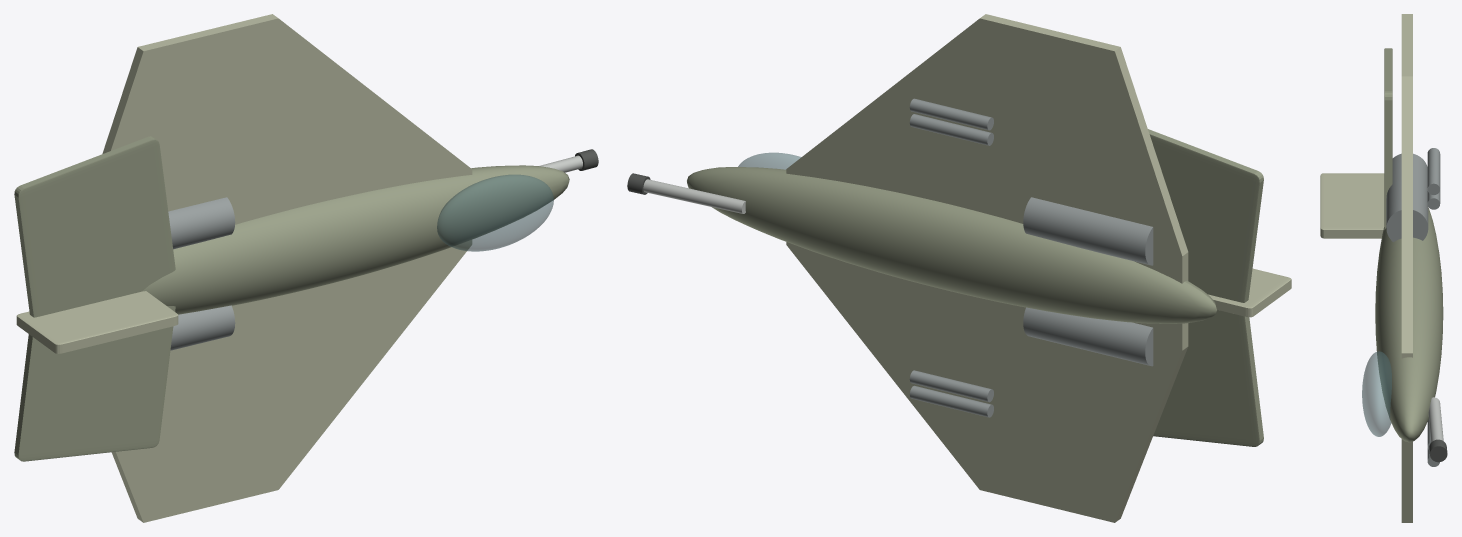
Rendered from v-u26-vanguard-bomber-lod1.glb.
The picture shows the model from 3 angles, left to right: view 1: azimuth 30°, elevation 25°; view 2: azimuth 150°, elevation 25°; view 3: azimuth 270°, elevation 25°; orthographic projection. The views are drawn at different scales.
Parts seen in each view (by area): view 1: combat_main_wing, combat_fuselage, combat_tailplane_1, combat_tailplane_-1, combat_canopy, combat_fin_0, combat_engine_1, combat_engine_0; view 2: combat_main_wing, combat_fuselage, combat_tailplane_1, combat_tailplane_-1, combat_engine_1, combat_engine_0, combat_fin_0, combat_gun_barrel_0, combat_1_tube_2, combat_-1_tube_1, combat_-1_tube_2, combat_1_tube_1 (+1 smaller); view 3: combat_fuselage, combat_main_wing, combat_fin_0, combat_engine_1, combat_canopy, combat_tailplane_1, combat_1_tube_2, combat_gun_barrel_0, combat_gun_muzzle_0, combat_1_tube_1.
Part boxes in pixels (x1=…): combat_main_wing: x1=102, y1=14, x2=472, y2=522; combat_fuselage: x1=142, y1=165, x2=569, y2=314; combat_tailplane_1: x1=14, y1=136, x2=175, y2=317; combat_tailplane_-1: x1=14, y1=306, x2=175, y2=461; combat_canopy: x1=437, y1=174, x2=553, y2=251; combat_fin_0: x1=16, y1=291, x2=178, y2=353; combat_engine_1: x1=168, y1=197, x2=235, y2=249; combat_engine_0: x1=170, y1=305, x2=235, y2=350; combat_main_wing: x1=786, y1=14, x2=1188, y2=522; combat_fuselage: x1=687, y1=167, x2=1216, y2=323; combat_tailplane_1: x1=1148, y1=129, x2=1263, y2=302; combat_tailplane_-1: x1=1153, y1=299, x2=1263, y2=446; combat_engine_1: x1=1023, y1=197, x2=1153, y2=265; combat_engine_0: x1=1023, y1=307, x2=1153, y2=366; combat_fin_0: x1=1208, y1=268, x2=1291, y2=317; combat_gun_barrel_0: x1=643, y1=179, x2=745, y2=213; combat_1_tube_2: x1=909, y1=98, x2=993, y2=130; combat_-1_tube_1: x1=909, y1=385, x2=993, y2=417; combat_-1_tube_2: x1=909, y1=370, x2=993, y2=402; combat_1_tube_1: x1=909, y1=114, x2=993, y2=145; combat_fuselage: x1=1375, y1=207, x2=1443, y2=442; combat_main_wing: x1=1401, y1=14, x2=1412, y2=522; combat_fin_0: x1=1320, y1=173, x2=1384, y2=238; combat_engine_1: x1=1386, y1=153, x2=1428, y2=241; combat_canopy: x1=1362, y1=351, x2=1391, y2=436; combat_tailplane_1: x1=1384, y1=48, x2=1392, y2=230; combat_1_tube_2: x1=1427, y1=148, x2=1440, y2=194; combat_gun_barrel_0: x1=1428, y1=397, x2=1443, y2=441; combat_gun_muzzle_0: x1=1429, y1=439, x2=1447, y2=462; combat_1_tube_1: x1=1427, y1=190, x2=1440, y2=209.
Size of what is drawn, in the model's own units: 16.25 by 12.12 by 3.13.
